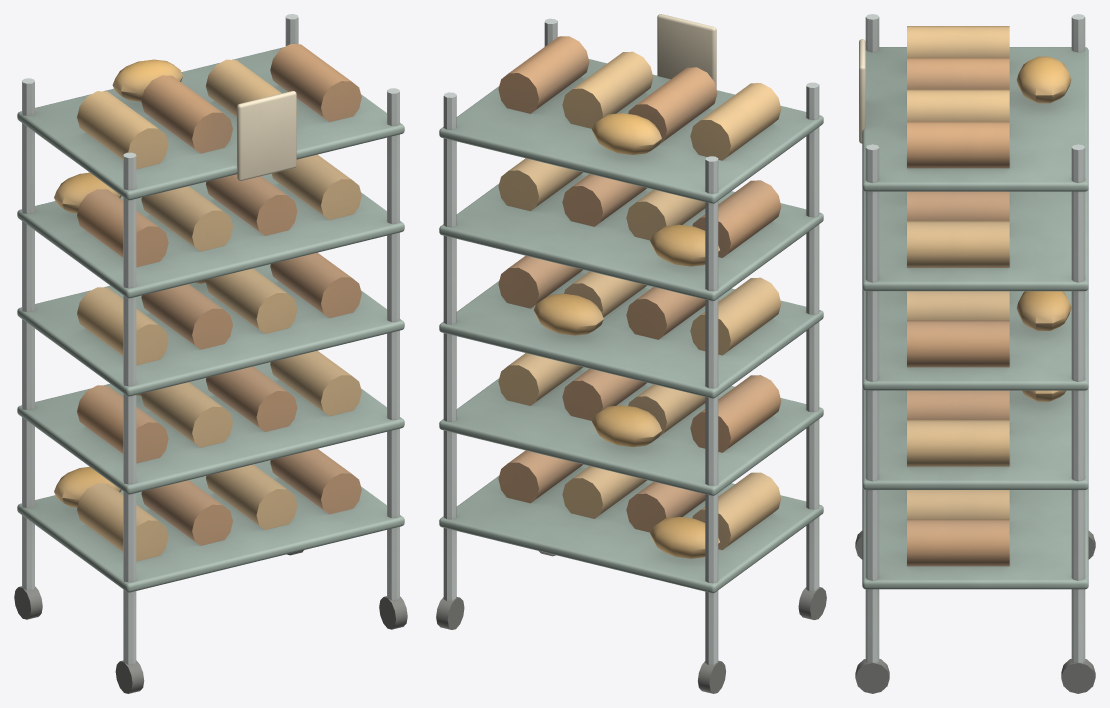
Rendered from BreadRack.fbx.
The picture shows the model from 3 angles, left to right: view 1: azimuth 30°, elevation 25°; view 2: azimuth 150°, elevation 25°; view 3: azimuth 270°, elevation 25°; orthographic projection. The views are drawn at different scales.
Parts seen in each view (by area): view 1: BreadRack; view 2: BreadRack; view 3: BreadRack.
Part boxes in pixels (<box>): BreadRack: <box>14,14,407,693</box>; BreadRack: <box>436,14,826,693</box>; BreadRack: <box>855,14,1095,693</box>.
Bounding box in the file's own units: 95 × 185 × 70.
